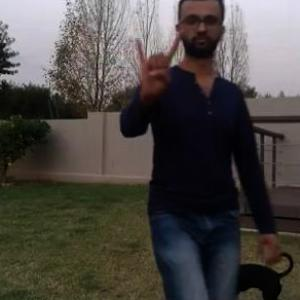takeoff-hand: (131, 29, 185, 96)
